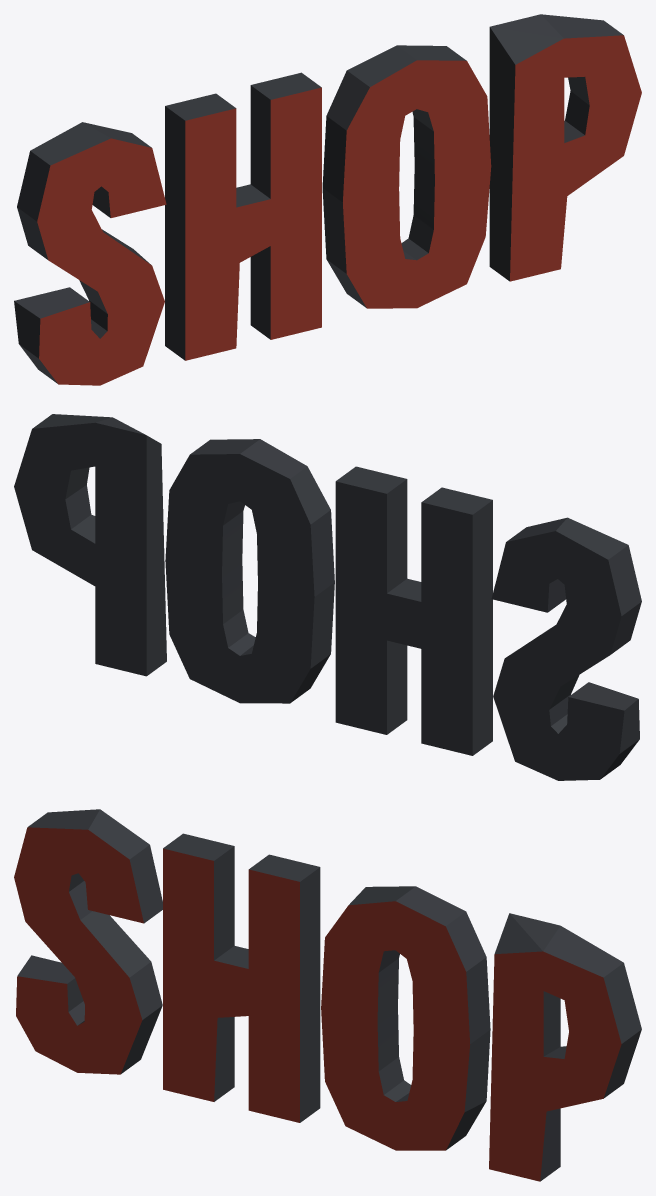
File: SM_Sign_3dText_Shop_01.obj
3 renders of one model, top to bottom at view 1: azimuth 30°, elevation 25°; view 2: azimuth 150°, elevation 25°; view 3: azimuth 330°, elevation 25°, orthographic.
Visible parts, largest first — view 1: SM_Sign_3dText_Shop_01_0; view 2: SM_Sign_3dText_Shop_01_0; view 3: SM_Sign_3dText_Shop_01_0.
Part boxes in pixels (<box>): SM_Sign_3dText_Shop_01_0: <box>14,14,641,385</box>; SM_Sign_3dText_Shop_01_0: <box>14,414,641,780</box>; SM_Sign_3dText_Shop_01_0: <box>14,809,641,1181</box>.
Bounding box in the file's own units: 1.89 × 0.7379 × 0.1093.
1 material, 1 textured.
